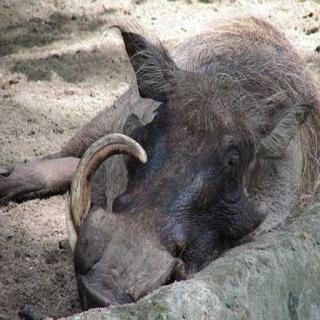Pig: (24, 17, 320, 304)
